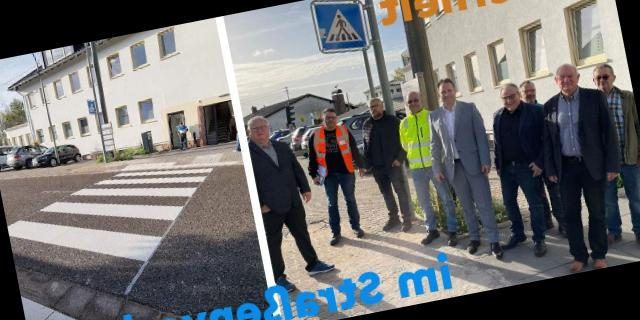crosswalk-sign: (310, 1, 372, 59), (85, 100, 98, 116)
